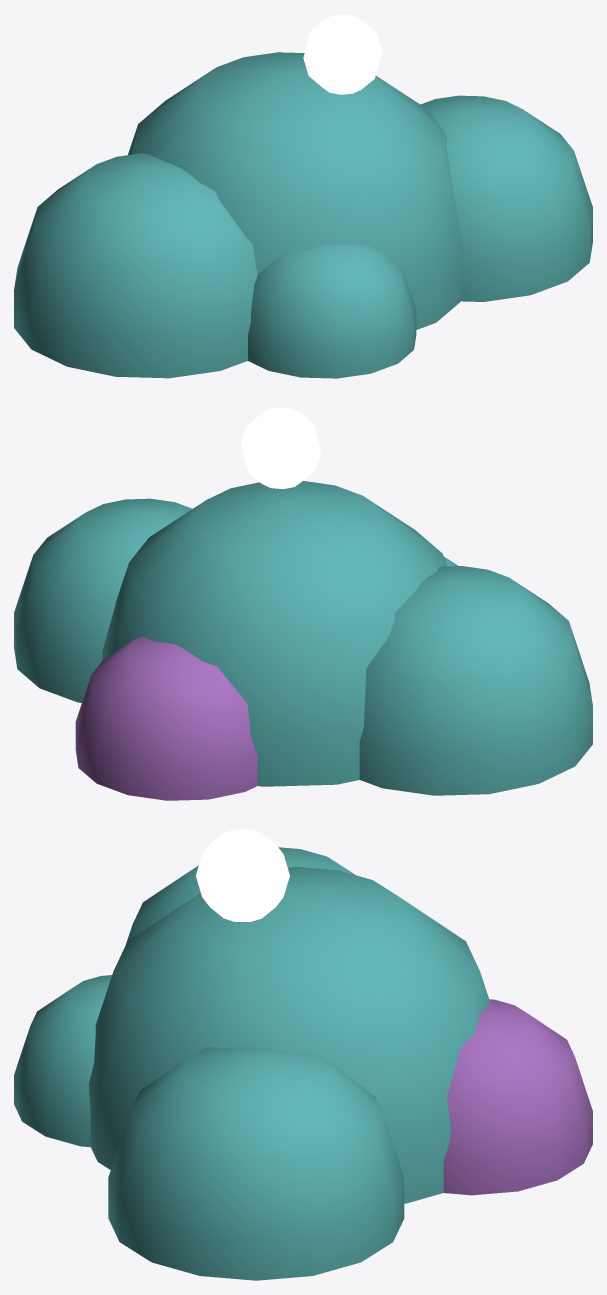
The model's file is GumdropBush_B.fbx.
3 views of the same model, one above another, from view 1: azimuth 30°, elevation 25°; view 2: azimuth 150°, elevation 25°; view 3: azimuth 270°, elevation 25° (orthographic). The views are drawn at different scales.
Visible parts, largest first — view 1: GumdropBush_B; view 2: GumdropBush_B; view 3: GumdropBush_B.
Part boxes in pixels (box(x1,y1,x2,y2)): GumdropBush_B: box(14, 14, 592, 378); GumdropBush_B: box(14, 407, 592, 800); GumdropBush_B: box(14, 829, 592, 1280).
Bounding box in the file's own units: 5.4 × 2.55 × 4.3.
